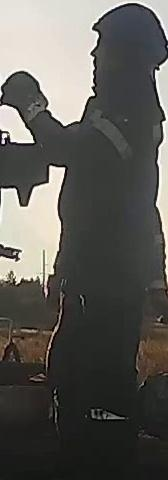gloves: (0, 69, 51, 128)
helmet: (92, 2, 168, 54)
vest: (52, 91, 167, 287)
